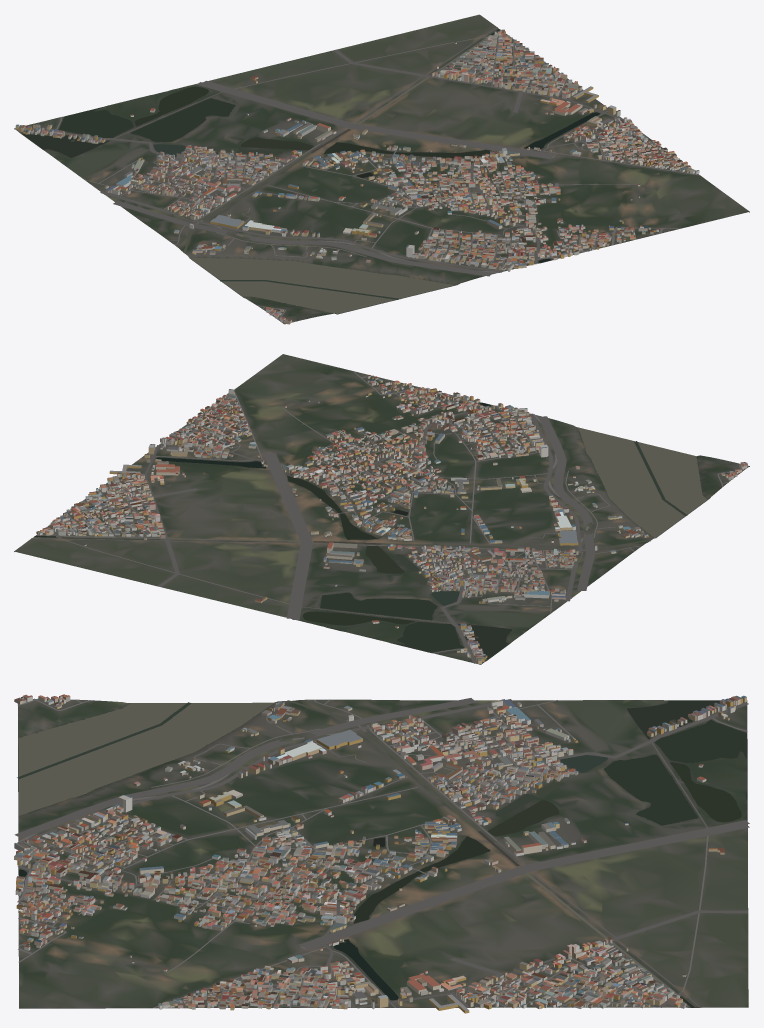
3 views of the same model, one above another, from view 1: azimuth 30°, elevation 25°; view 2: azimuth 150°, elevation 25°; view 3: azimuth 270°, elevation 25° (orthographic). The views are drawn at different scales.
Parts seen in each view (by area): view 1: ground, buildings, water, roads; view 2: ground, buildings, water, roads; view 3: ground, buildings, water, roads.
Part boxes in pixels (left/top/right/bottom): ground: left=14, top=14, right=749, bottom=324; buildings: left=15, top=29, right=699, bottom=324; water: left=22, top=29, right=599, bottom=313; roads: left=32, top=27, right=700, bottom=321; ground: left=14, top=354, right=749, bottom=664; buildings: left=36, top=375, right=747, bottom=664; water: left=34, top=402, right=707, bottom=659; roads: left=31, top=371, right=743, bottom=663; ground: left=17, top=699, right=748, bottom=1008; buildings: left=14, top=694, right=746, bottom=1013; water: left=17, top=700, right=747, bottom=1007; roads: left=14, top=698, right=749, bottom=1008.
Size of the model in its own units: 1436 by 35.82 by 1414.
